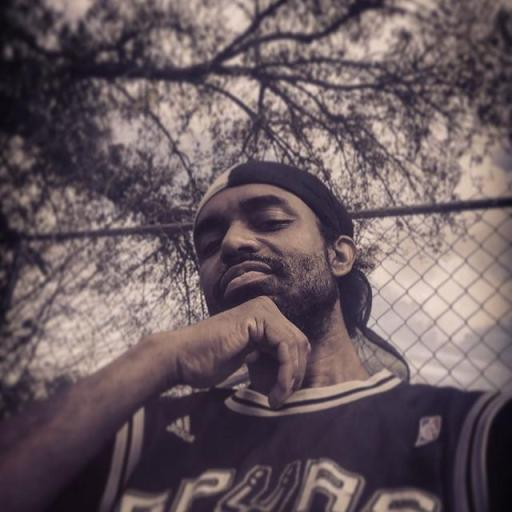Adidas: (162, 411, 197, 446)
